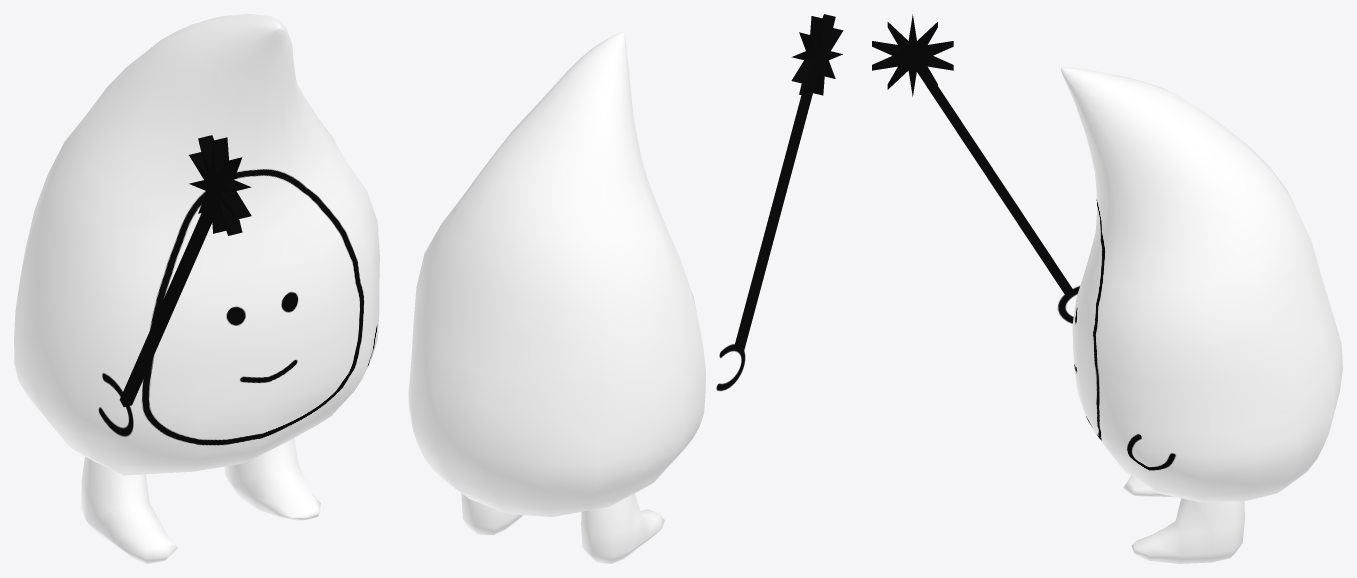
Rendered from funnyFairy.glb.
3 renders of one model, left to right at view 1: azimuth 30°, elevation 25°; view 2: azimuth 150°, elevation 25°; view 3: azimuth 270°, elevation 25°, orthographic. The views are drawn at different scales.
Parts seen in each view (by area): view 1: fairy, hand, star; view 2: fairy, hand, star; view 3: fairy, hand, star.
Part boxes in pixels (box(x1,y1,x2,y2)): fairy: box(14, 14, 379, 563); hand: box(98, 202, 212, 436); star: box(189, 135, 251, 235); fairy: box(408, 32, 705, 563); hand: box(716, 90, 813, 390); star: box(791, 14, 843, 97); fairy: box(1061, 67, 1342, 563); hand: box(917, 71, 1079, 323); star: box(872, 14, 953, 96).
Size of the model in its own units: 1.92 by 3.18 by 2.94.
2 materials, 2 textured.
